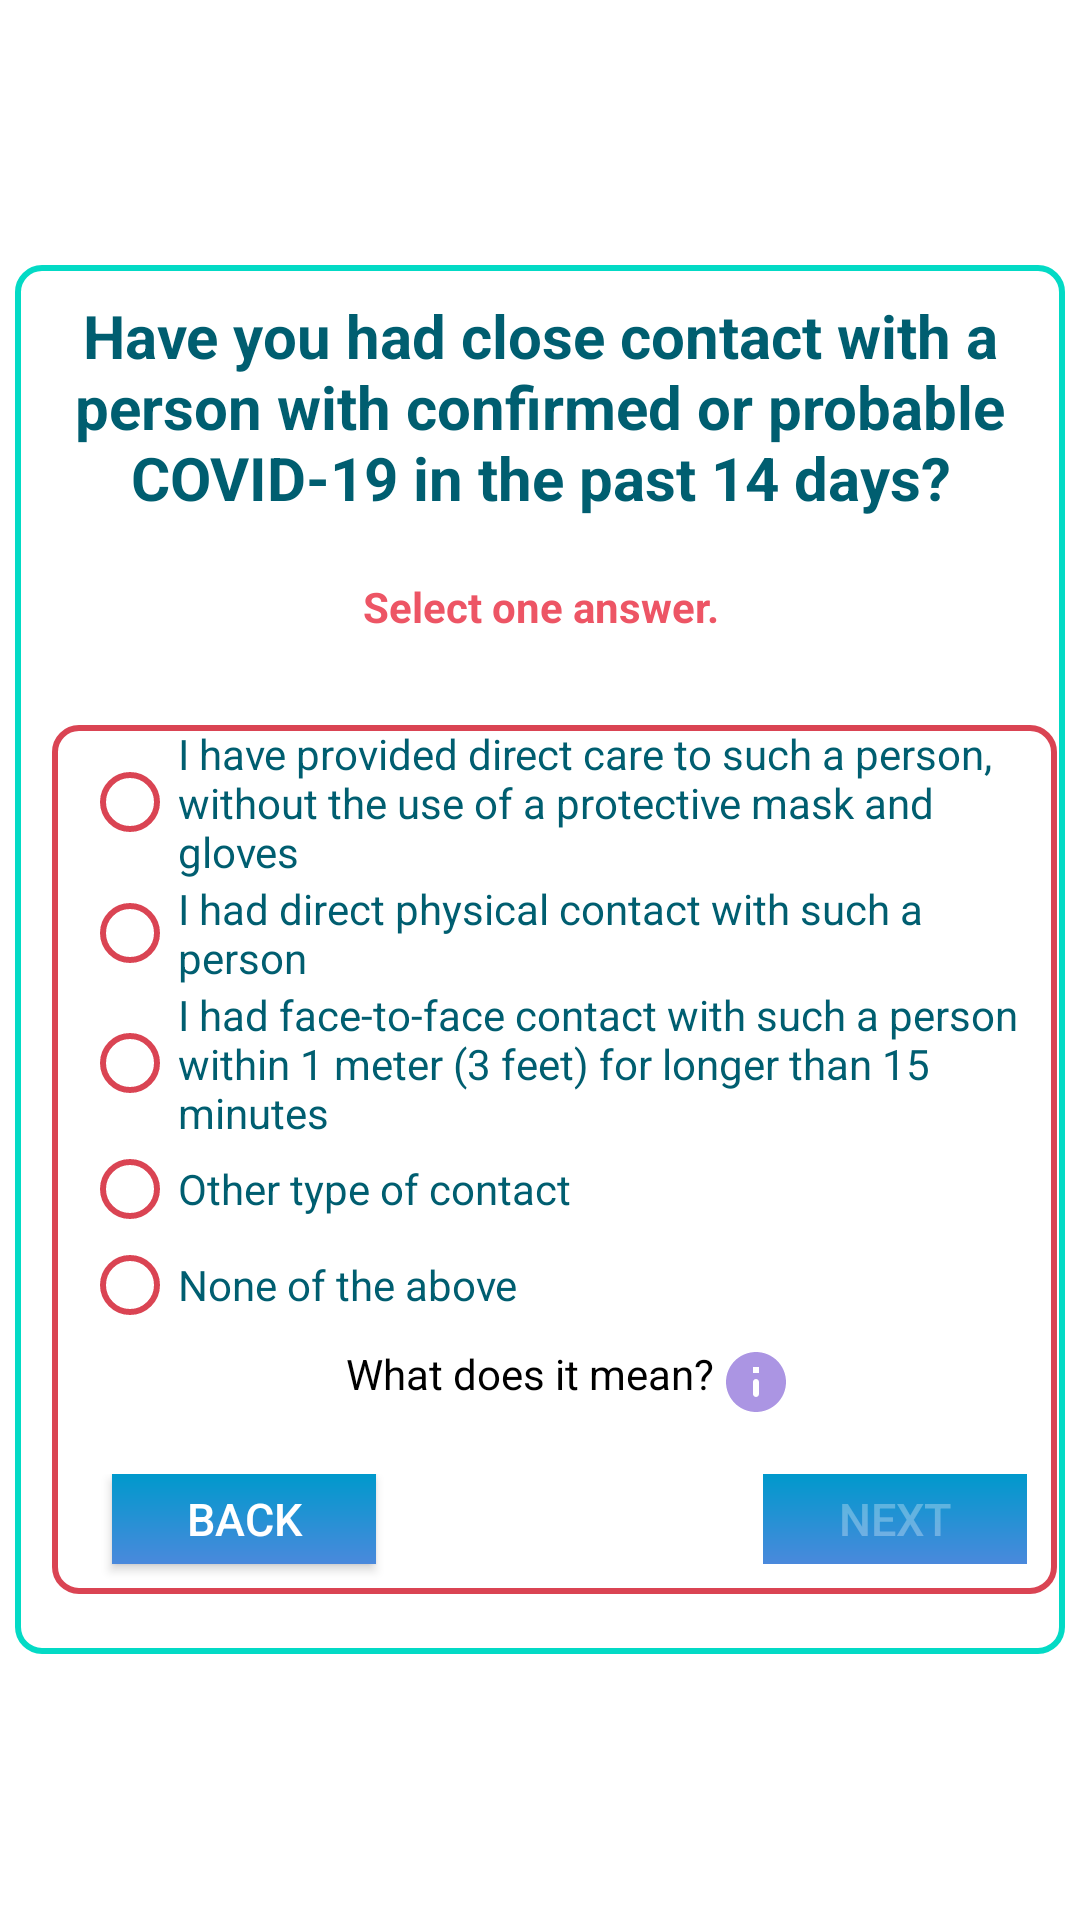

Where icons sit on this 1080 x 1920 app screen, as [left=x1, top=y1, right=x2, bottom=y2]:
moreinfo: [left=726, top=1352, right=786, bottom=1412]
